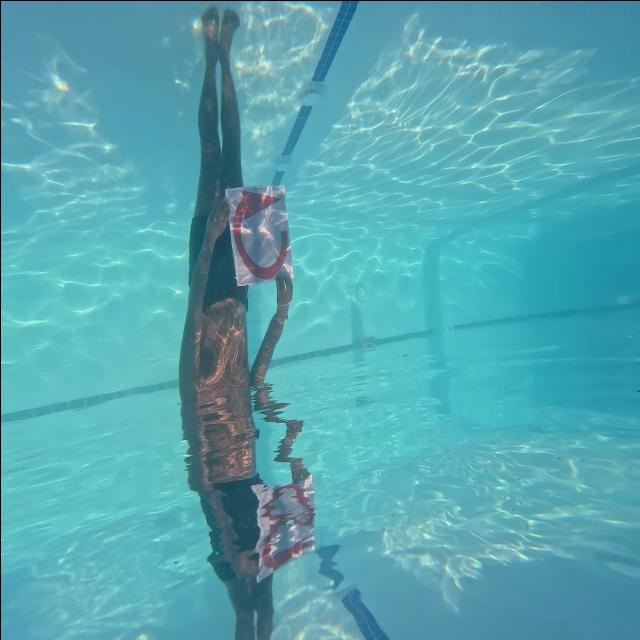red_side: (226, 184, 288, 288)
